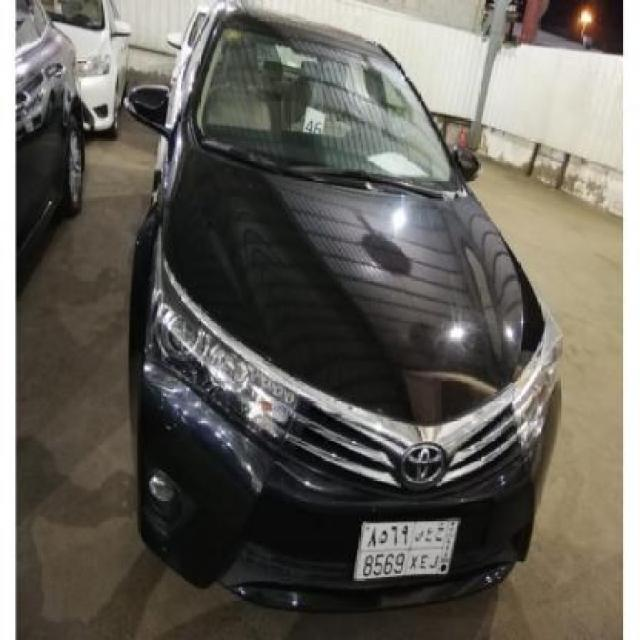license_plate: (350, 517, 462, 585)
